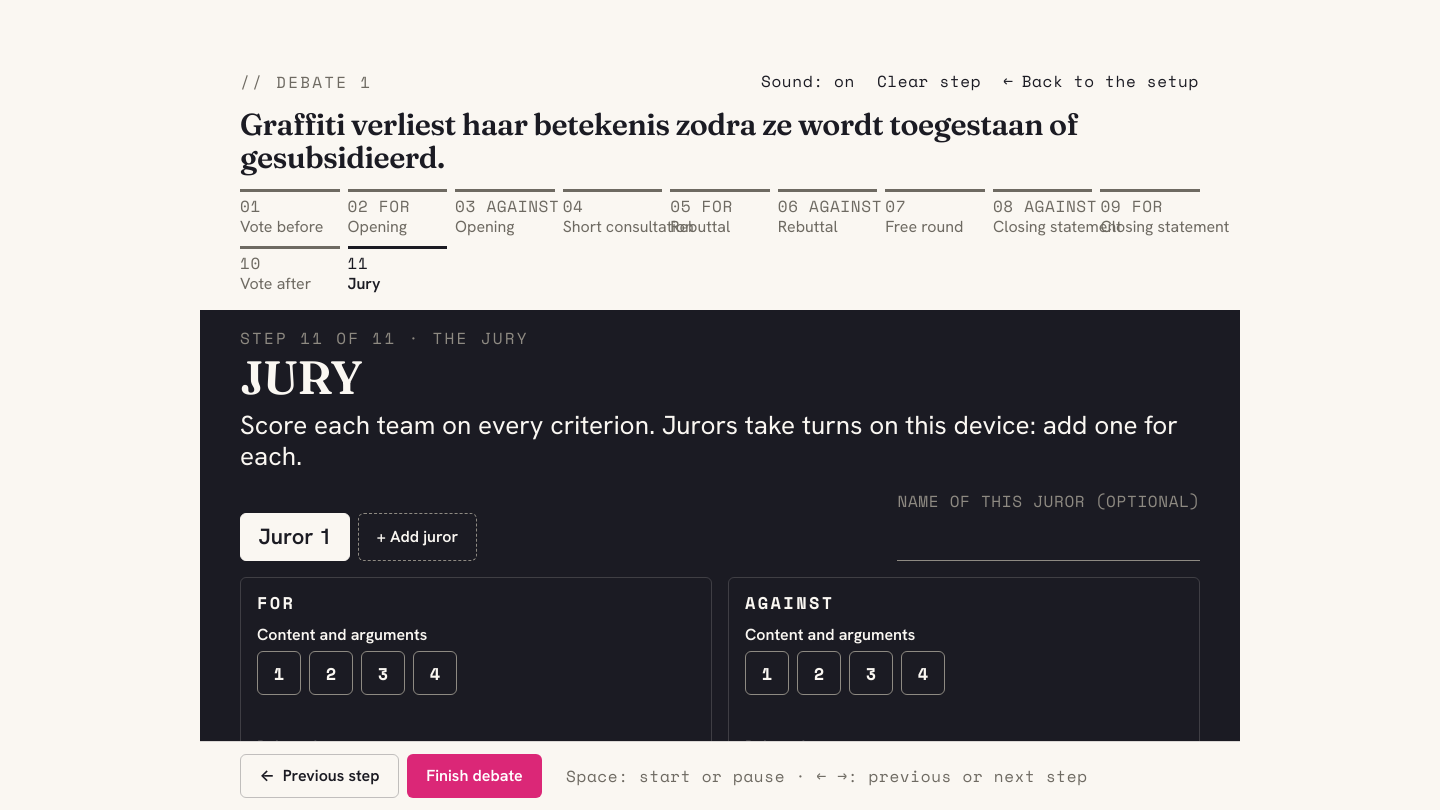
Test: the jury of #10 › records a score, says what it means and adds up the total; a score can be taken back
The image size is (1440, 810).
Step 1. Click the 1st radio button labelled "3" → (383, 673), box x1=361 y1=651 x2=405 y2=695
(page scrolled)
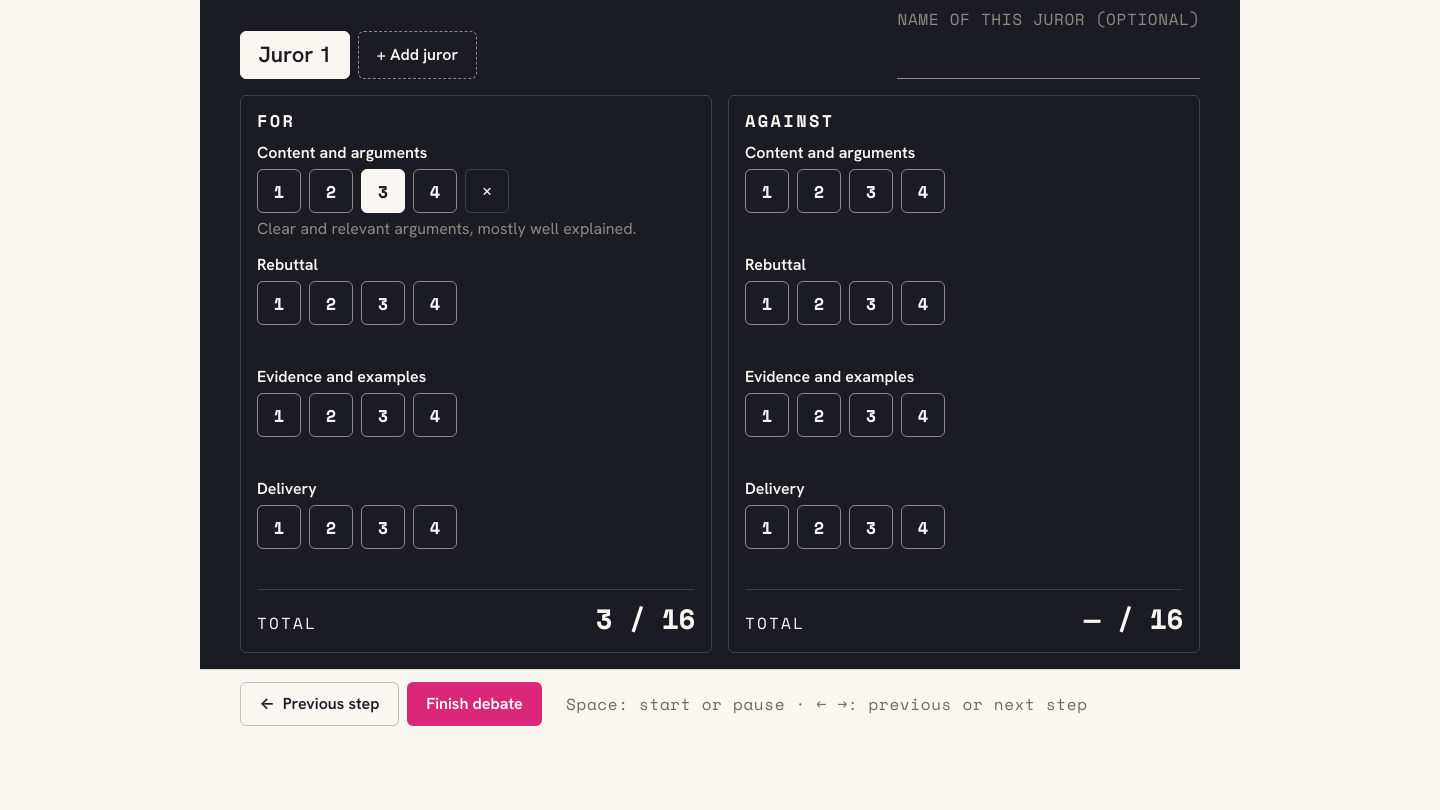
Step 2. Click the 7th radio button labelled "4" → (435, 527), box x1=413 y1=505 x2=457 y2=549
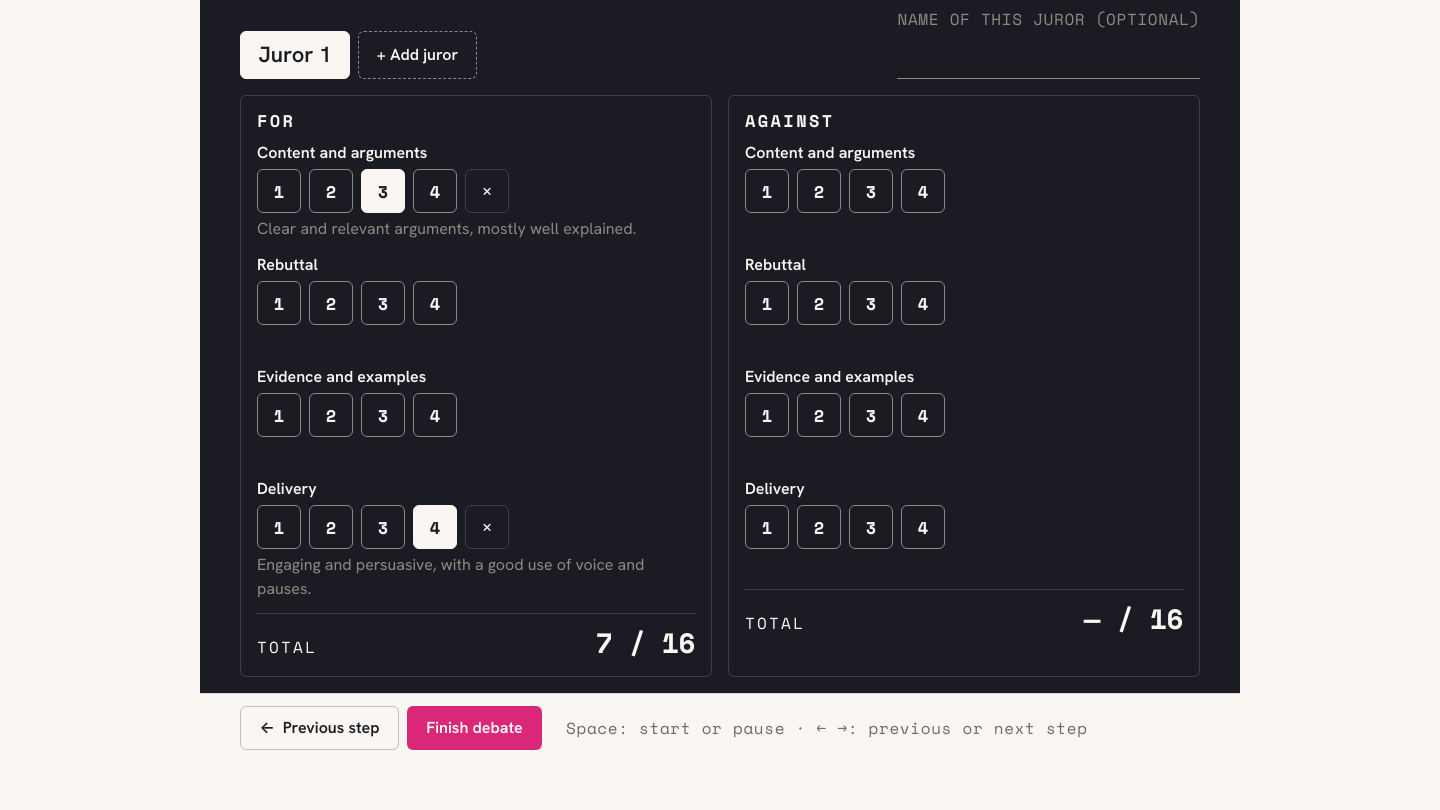
expect the 1st radio button labelled "3" is checked: met, box x1=361 y1=169 x2=405 y2=213
expect the text "Clear and relevant arguments, mostly well explained." is shown: met, box x1=257 y1=217 x2=695 y2=241
expect the text "7 / 16" is shown: met, box x1=596 y1=622 x2=695 y2=664
Step 3. Click the button named "Clear the score of FOR for Delivery" → (487, 527), box x1=465 y1=505 x2=509 y2=549
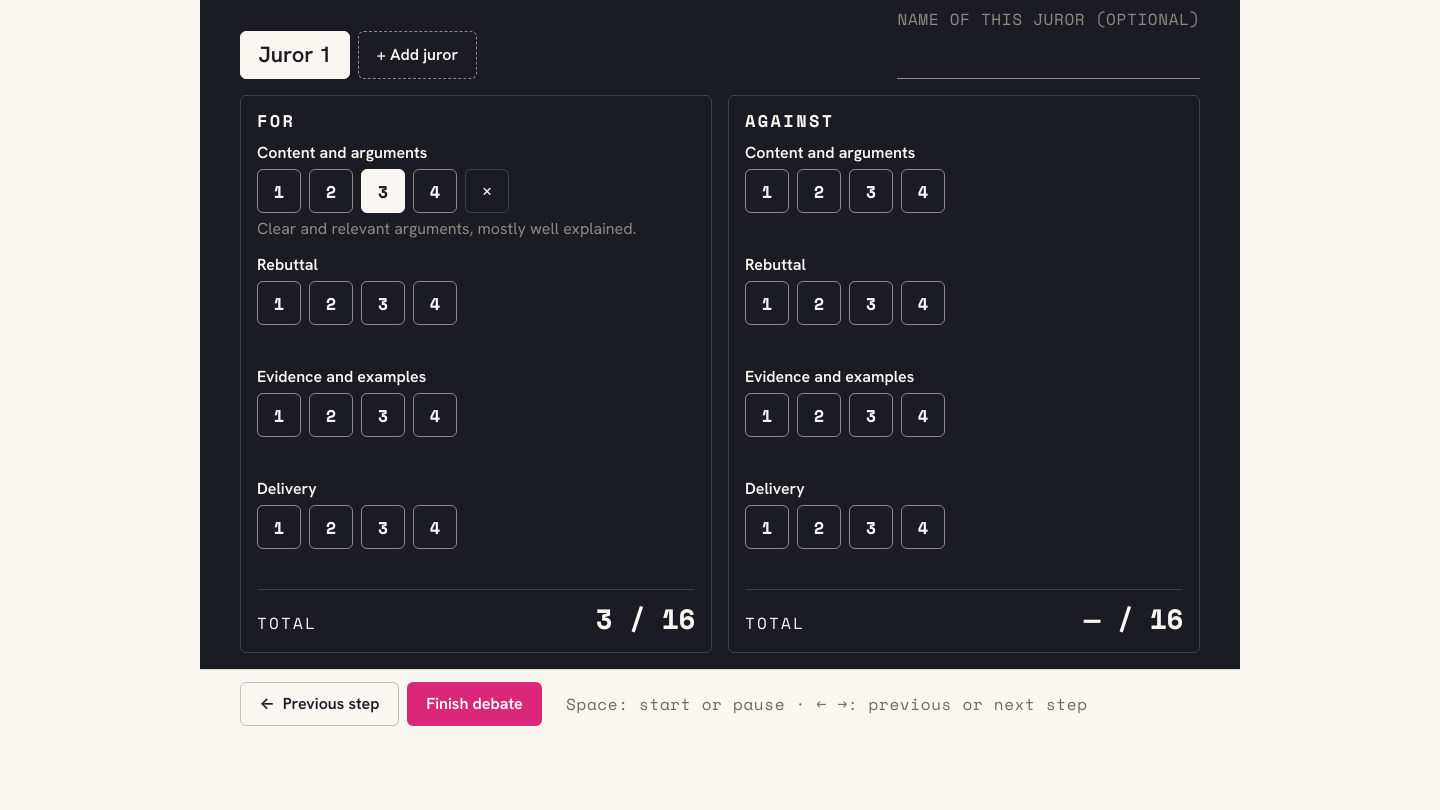
expect the 7th radio button labelled "4" is not checked: met, box x1=413 y1=505 x2=457 y2=549
expect the text "3 / 16" is shown: met, box x1=596 y1=598 x2=695 y2=640
